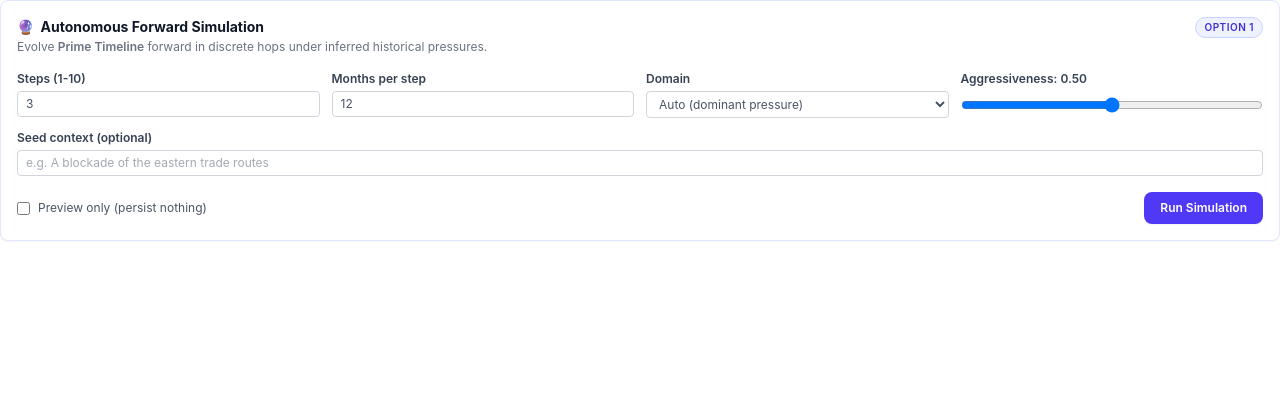
Scenario: SimulationLauncherPanel › passes dryRun through and labels the result as a preview
Click the checkbox labelled "Preview only (persist nothing)" at (24, 208), box top-left (17, 202), bottom-right (30, 214)
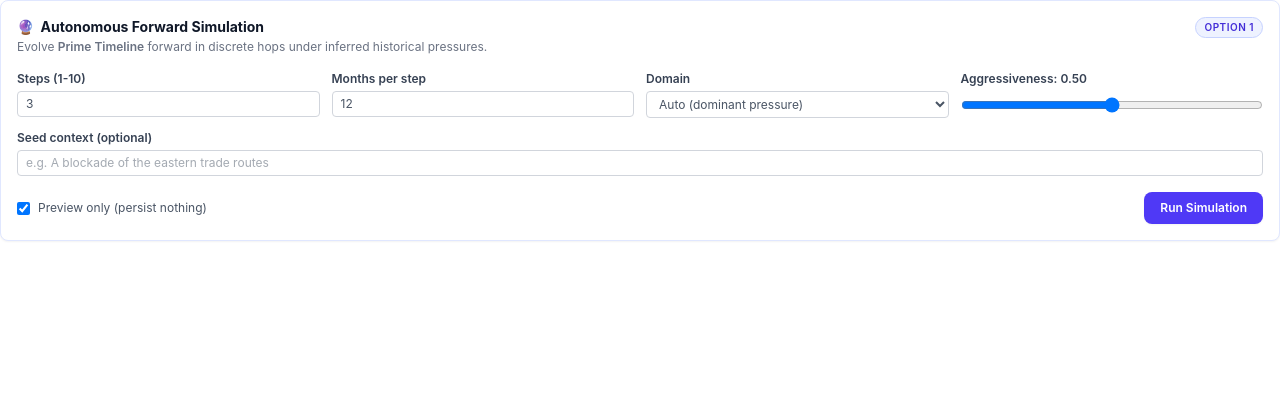
Click the button "Run Simulation" at (1204, 208), box top-left (1144, 192), bottom-right (1263, 224)
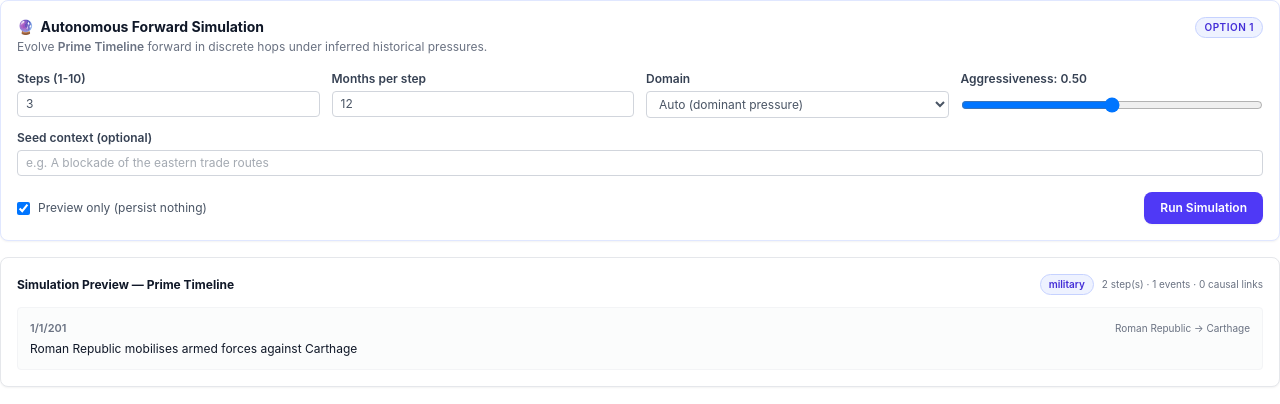
Result: the heading "Simulation Preview — Prime Timeline" is shown at top-left (17, 276), bottom-right (234, 292)
